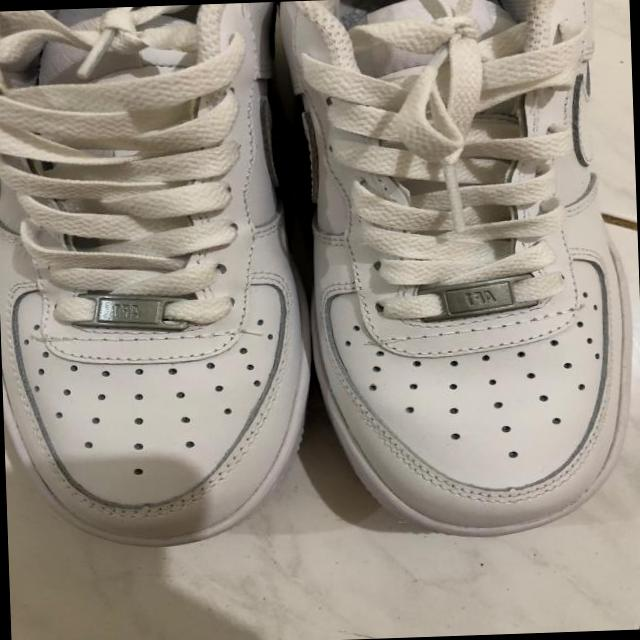nike_fake_airforce: (289, 0, 640, 545), (0, 1, 316, 559)
